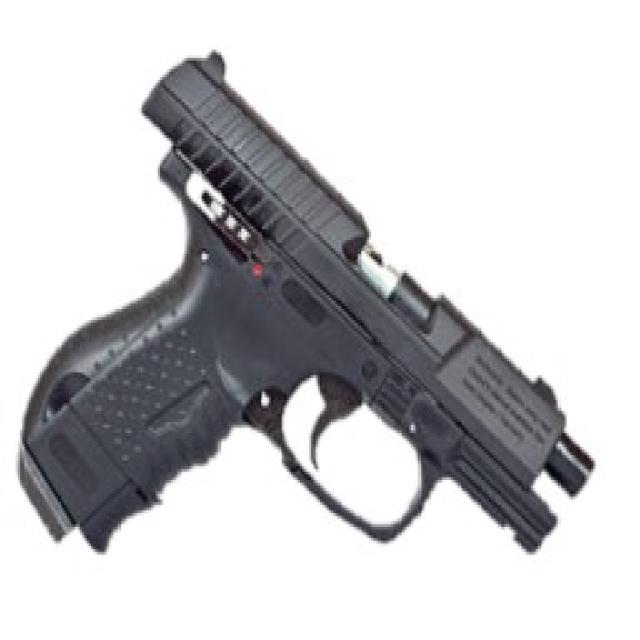pistol: (10, 42, 602, 566)
